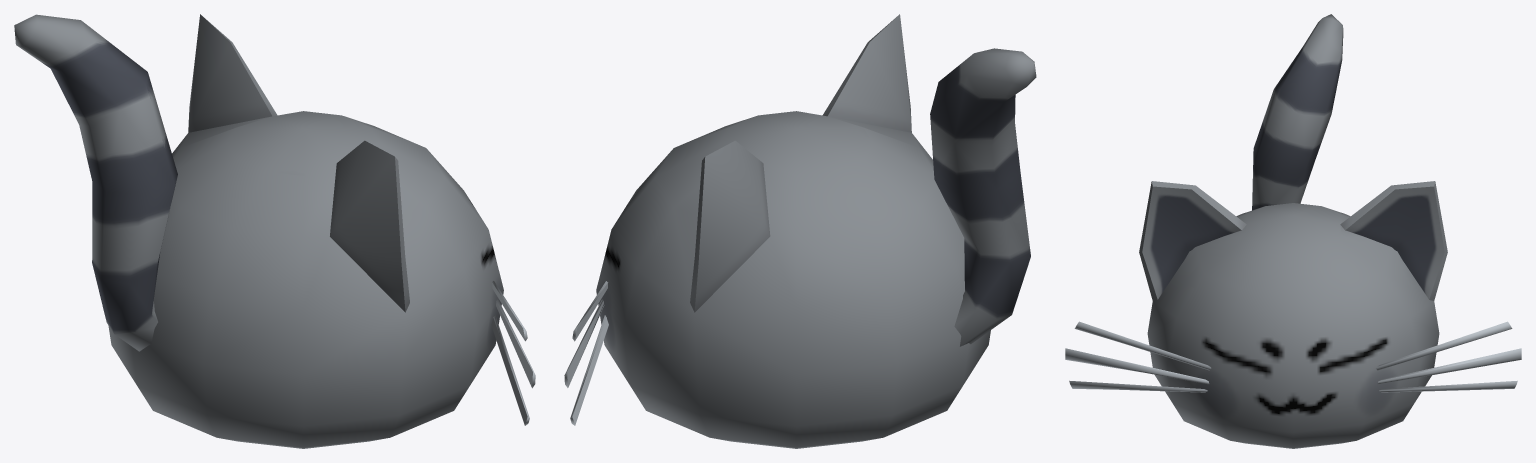
File: Cat.obj
3 renders of one model, left to right at view 1: azimuth 30°, elevation 25°; view 2: azimuth 150°, elevation 25°; view 3: azimuth 270°, elevation 25°, orthographic. The views are drawn at different scales.
Visible parts, largest first — view 1: Sphere.001; view 2: Sphere.001; view 3: Sphere.001.
Part boxes in pixels (x1,y1,x2,y2): Sphere.001: (14, 14, 535, 448); Sphere.001: (564, 14, 1036, 448); Sphere.001: (1065, 14, 1521, 448).
Bounding box in the file's own units: 0.755 × 0.6895 × 0.9379.
1 material, 1 textured.
